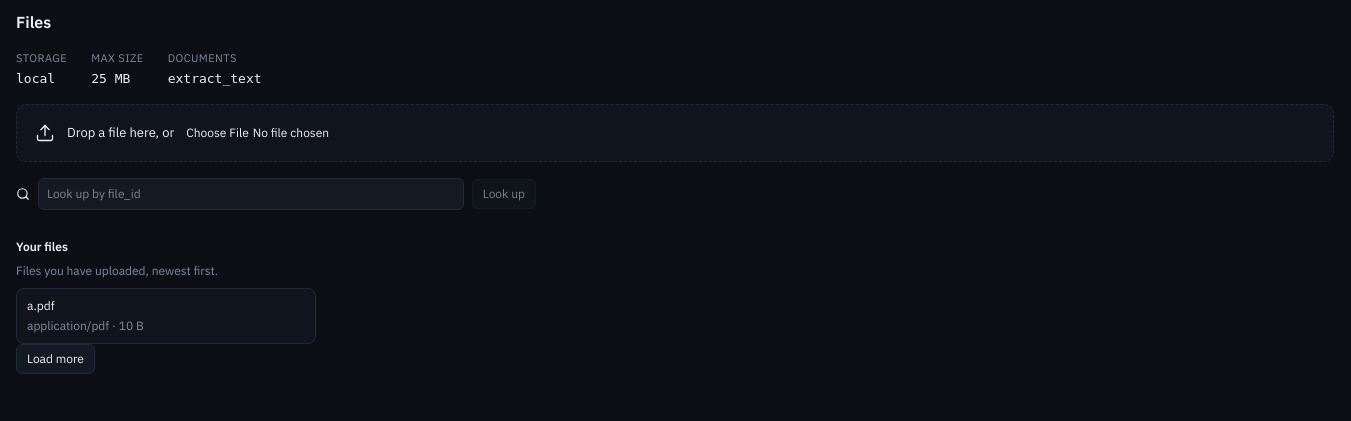
Test: FilesPage › lists server files and pages with Load more
Expected: the text "a.pdf" is shown, [27, 297, 55, 315]
Click the button "Load more". click: (56, 359)
box: [16, 344, 95, 374]
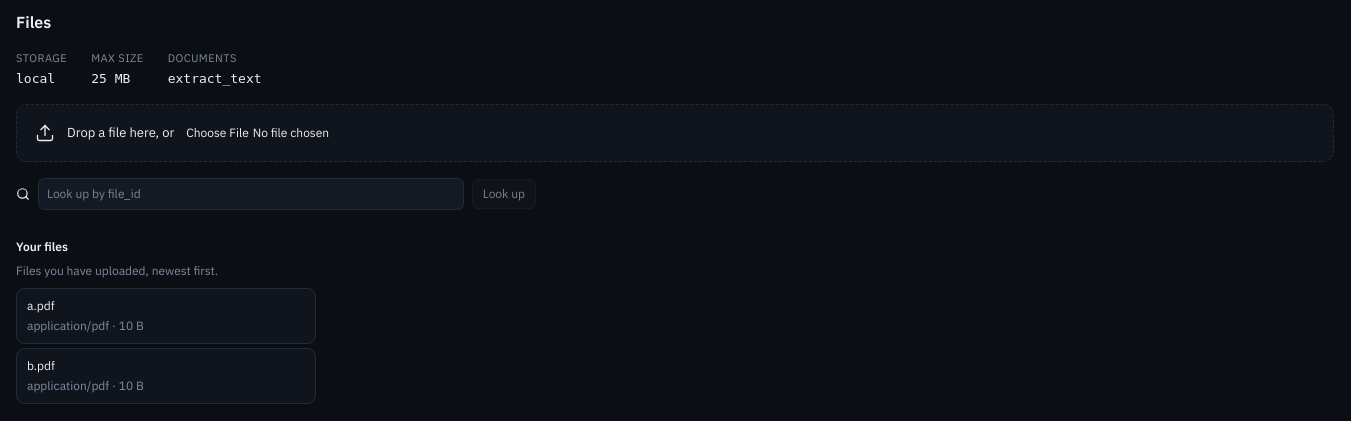
Expected: the text "b.pdf" is shown, [27, 357, 55, 375]
Expected: the button "Load more" is gone
